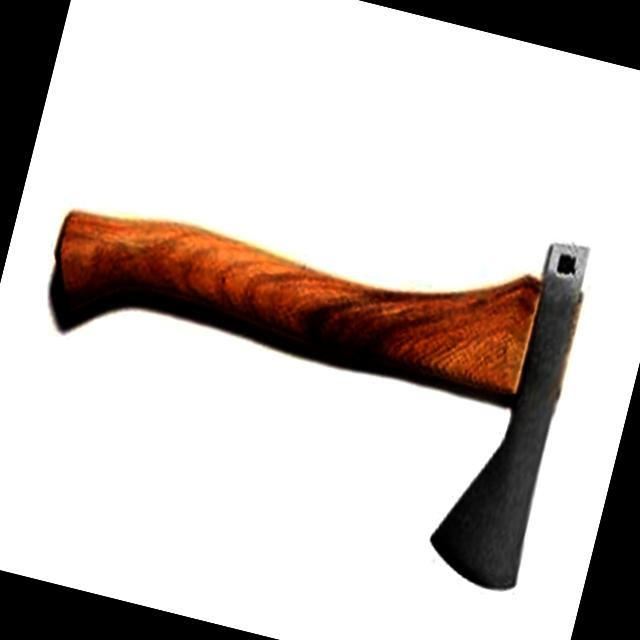ax: (0, 108, 613, 608)
